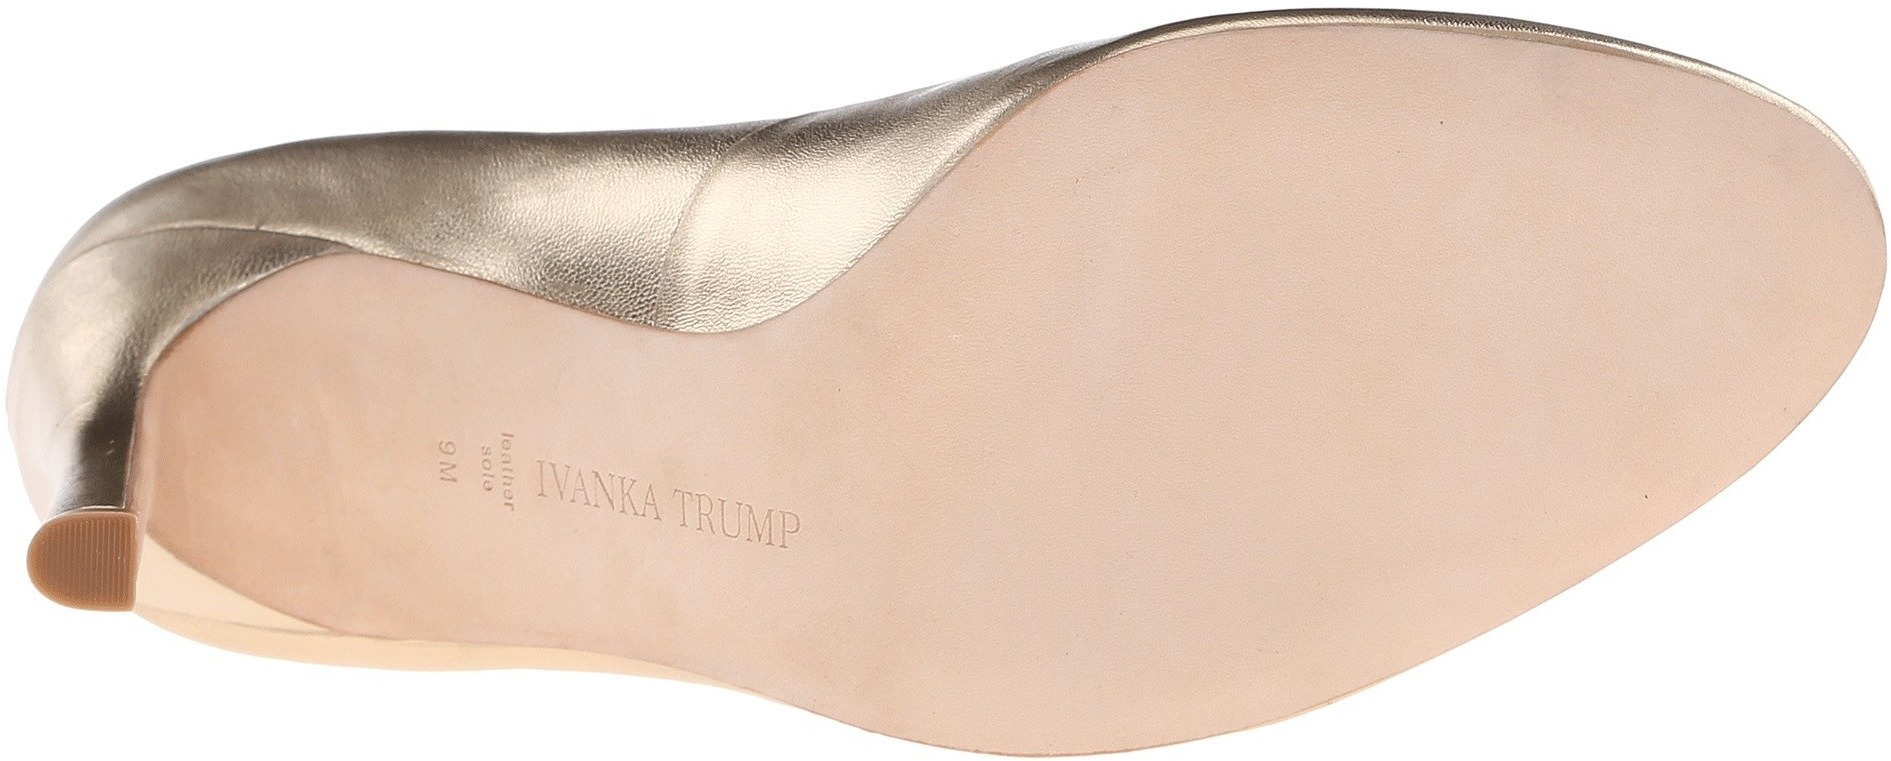exclude: (110, 183, 807, 755)
other: (807, 295, 1245, 656), (1265, 103, 1608, 452), (1612, 157, 1827, 357), (1054, 93, 1251, 283), (1268, 459, 1442, 636), (1450, 457, 1590, 576), (45, 531, 122, 595)
